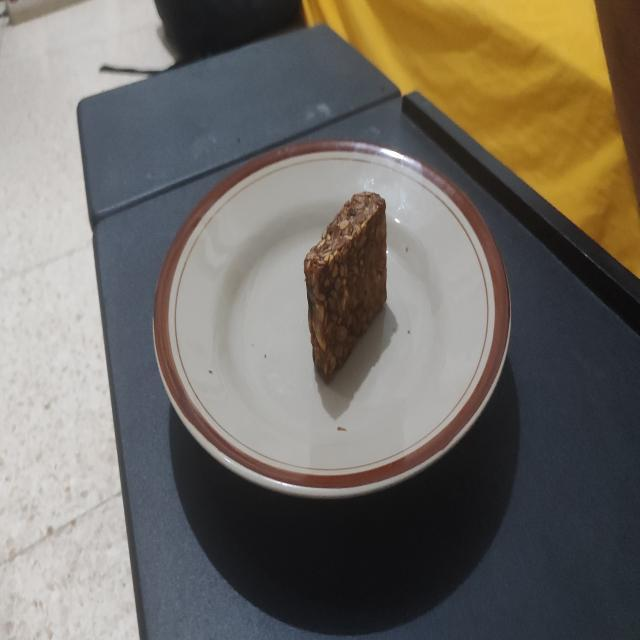tempe_goreng: (304, 192, 387, 382)
